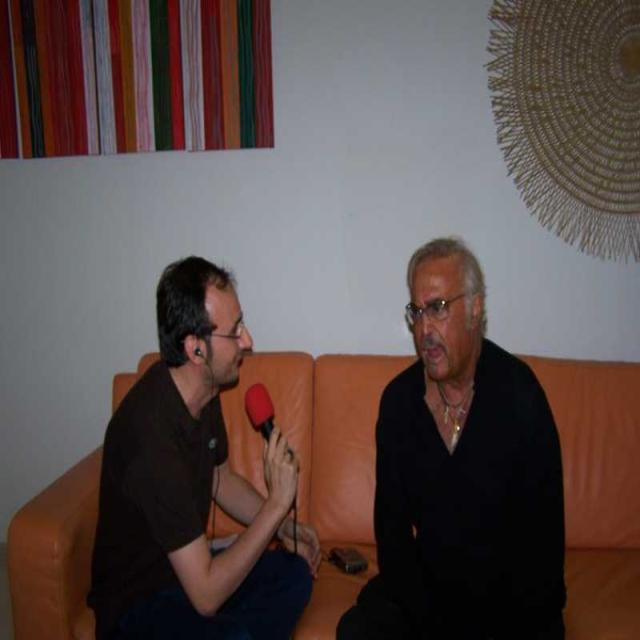microphone: (241, 381, 295, 467)
